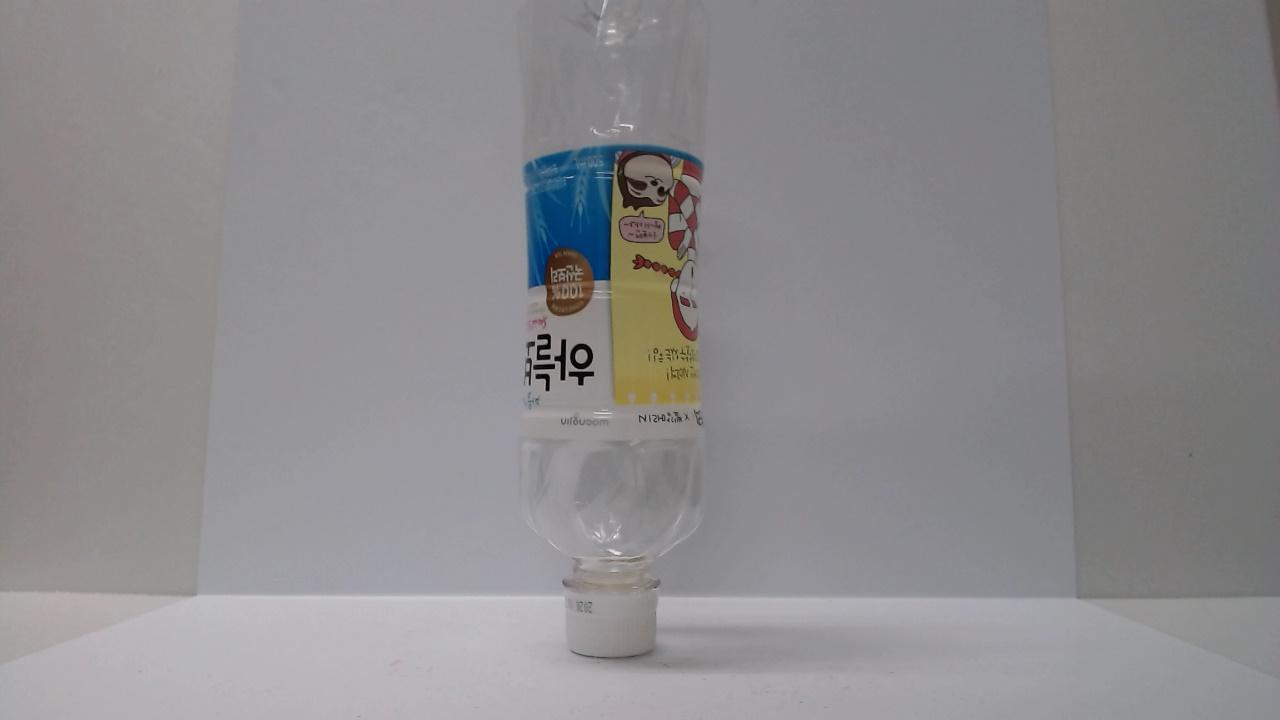bottle: (454, 2, 735, 680)
